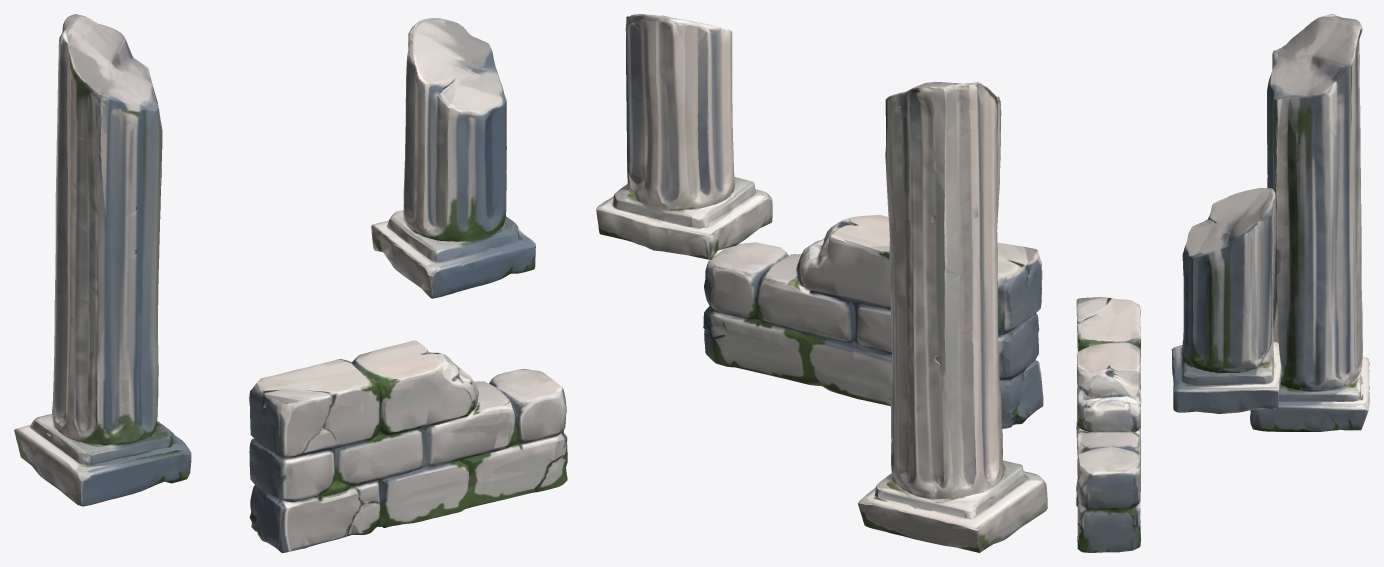
The model's file is ruins_pillar_v2_spread.glb.
3 renders of one model, left to right at view 1: azimuth 30°, elevation 25°; view 2: azimuth 150°, elevation 25°; view 3: azimuth 270°, elevation 25°, orthographic. The views are drawn at different scales.
Parts seen in each view (by area): view 1: geometry_0; view 2: geometry_0; view 3: geometry_0.
Boxes of the visible parts, x1,y1,x2,y2 form: geometry_0: [14, 14, 567, 552]; geometry_0: [596, 14, 1047, 552]; geometry_0: [1076, 14, 1369, 552].
Bounding box in the file's own units: 2.49 × 2.5 × 1.72.
1 material, 1 textured.
